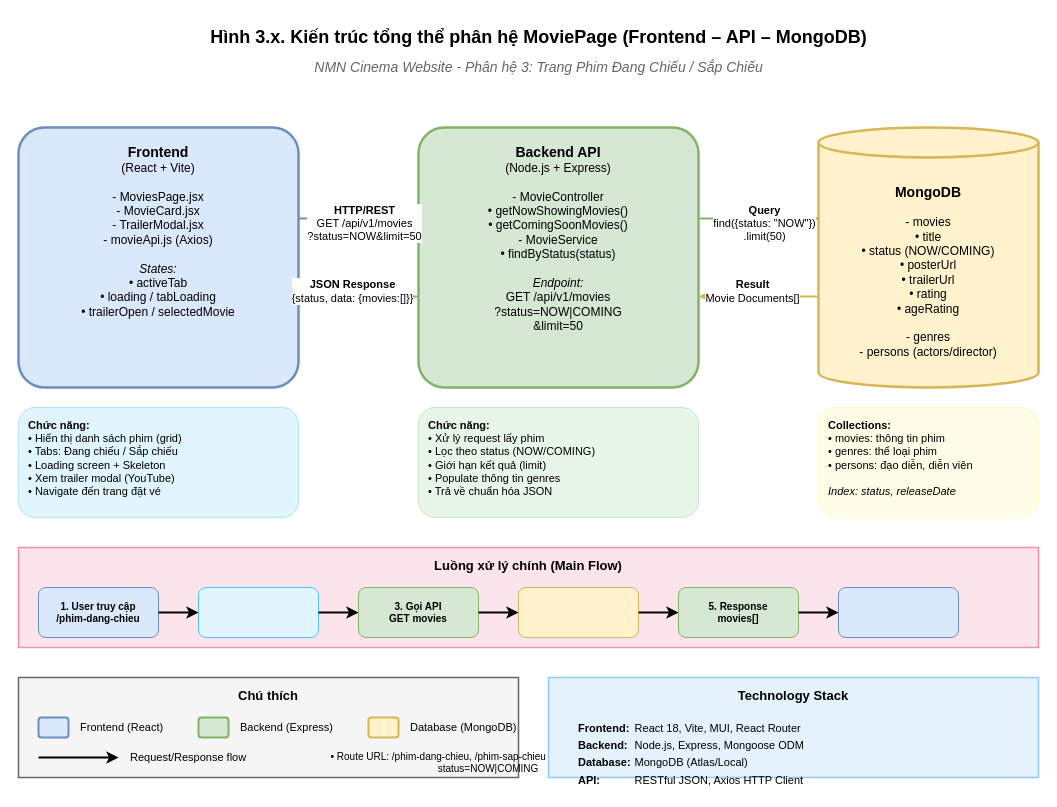
This 1057x807 diagram has some shape labels left out. The shapes that lost their labels are listed below. From the top down, each one's centre as x and y in pixels, then its label:
At (x=258, y=612): "2. Loading Screen hiển thị".
At (x=578, y=612): "4. Query MongoDB".
At (x=898, y=612): "6. Render MovieCard Grid".
